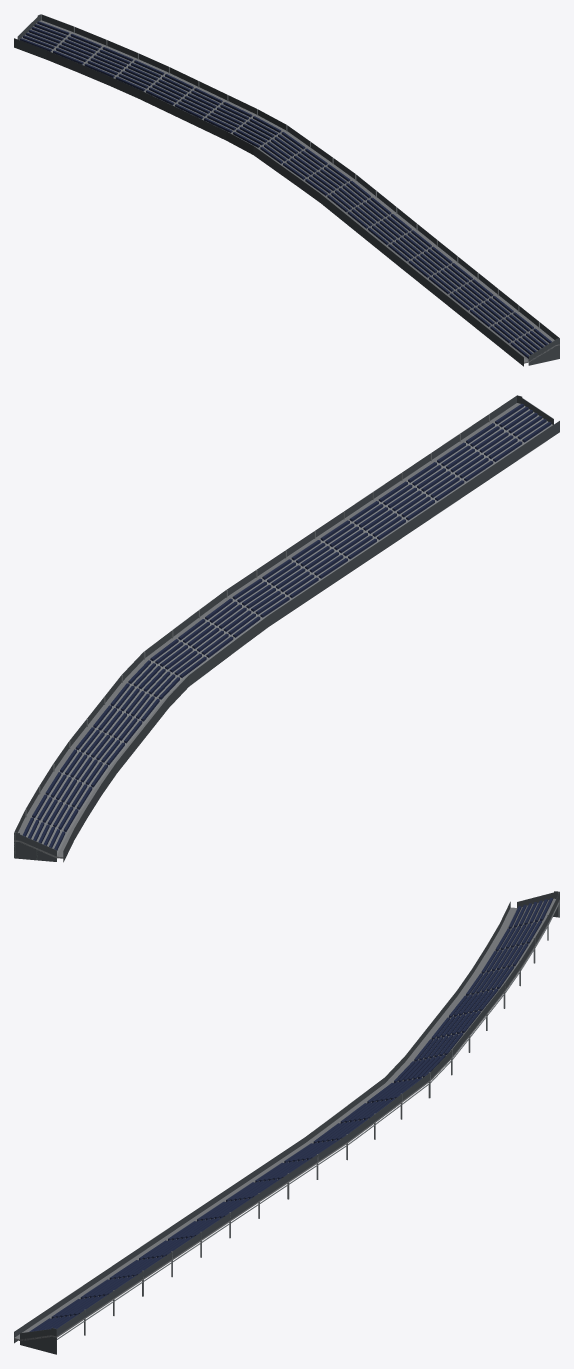
The model's file is sil_stand_copse_c_front.glb.
3 views of the same model, one above another, from view 1: azimuth 30°, elevation 25°; view 2: azimuth 150°, elevation 25°; view 3: azimuth 330°, elevation 25° (orthographic). The views are drawn at different scales.
Visible parts, largest first — view 1: silverstone-copse-c-front; view 2: silverstone-copse-c-front; view 3: silverstone-copse-c-front.
Boxes of the visible parts, x1,y1,x2,y2 form: silverstone-copse-c-front: (14, 14, 559, 366); silverstone-copse-c-front: (14, 395, 559, 862); silverstone-copse-c-front: (14, 891, 559, 1354).
Size of the model in its own units: 22.59 by 4.2 by 171.
